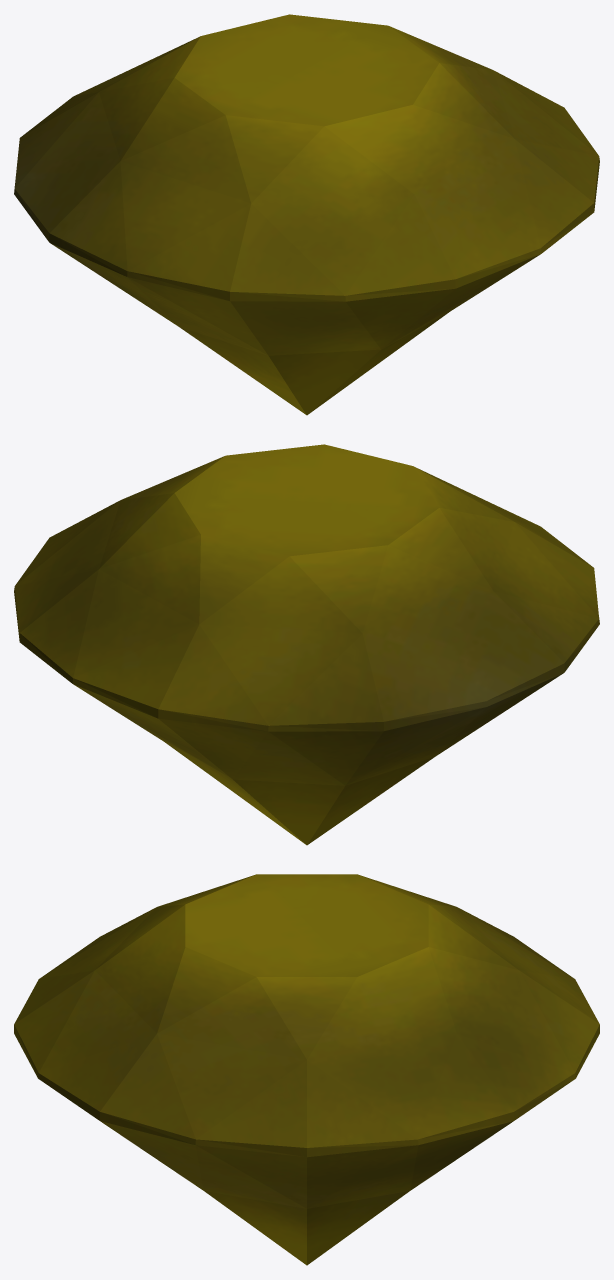
Rendered from Yellow Chaos Emerald.obj.
3 views of the same model, one above another, from view 1: azimuth 30°, elevation 25°; view 2: azimuth 150°, elevation 25°; view 3: azimuth 270°, elevation 25° (orthographic).
Visible parts, largest first — view 1: Object01; view 2: Object01; view 3: Object01.
Part boxes in pixels (x1,y1,x2,y2): Object01: (14,14,599,415); Object01: (14,444,599,845); Object01: (14,874,599,1265).
Bounding box in the file's own units: 151 × 96.96 × 151.
1 material, 1 textured.
